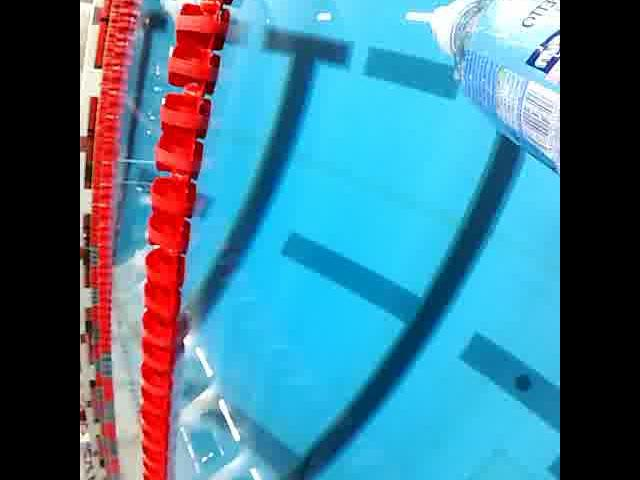Bottle: (424, 0, 560, 192)
